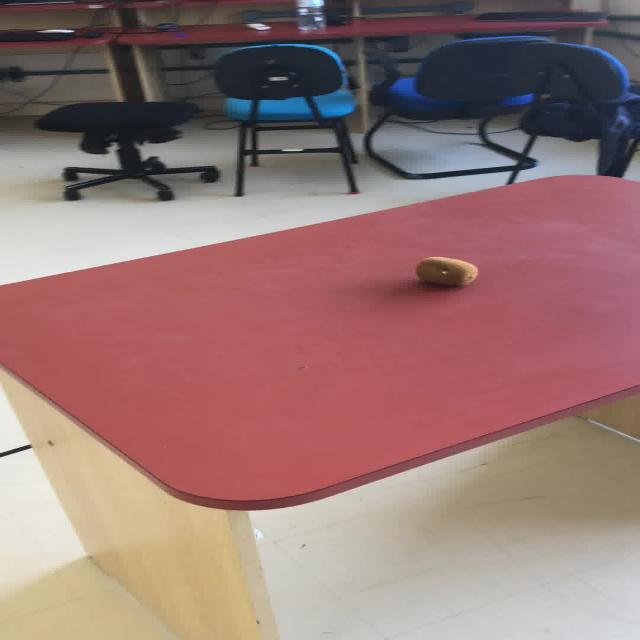kiwi: (414, 256, 477, 286)
